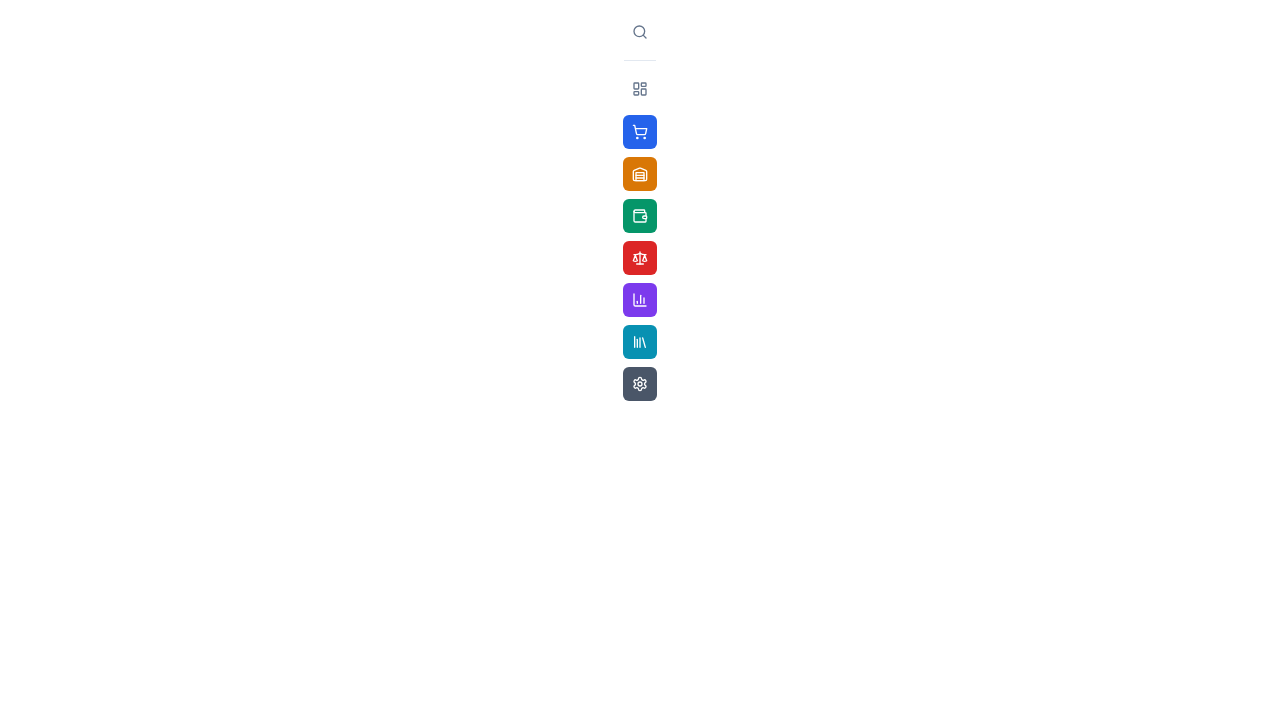
SidebarRail › Esc closes the flyout and returns focus to the icon
Click the button named "Kho" at coordinates (640, 174), box [623, 157, 657, 191]
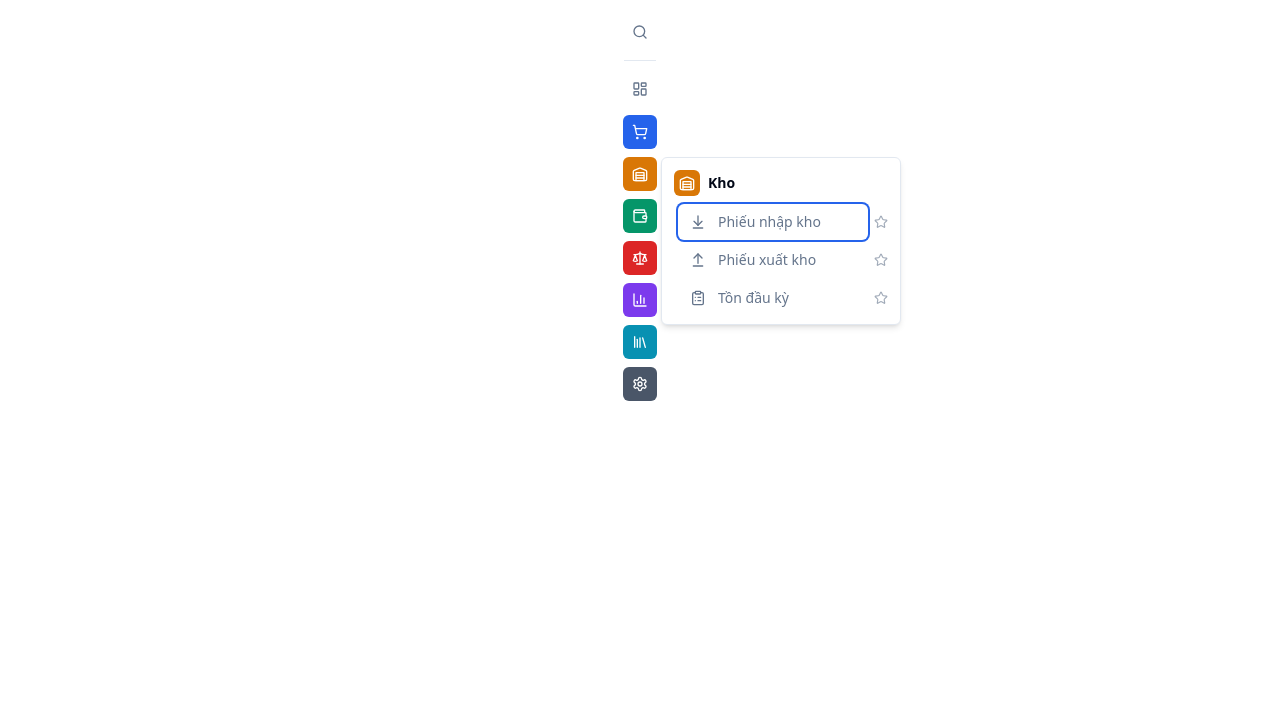
Press Escape
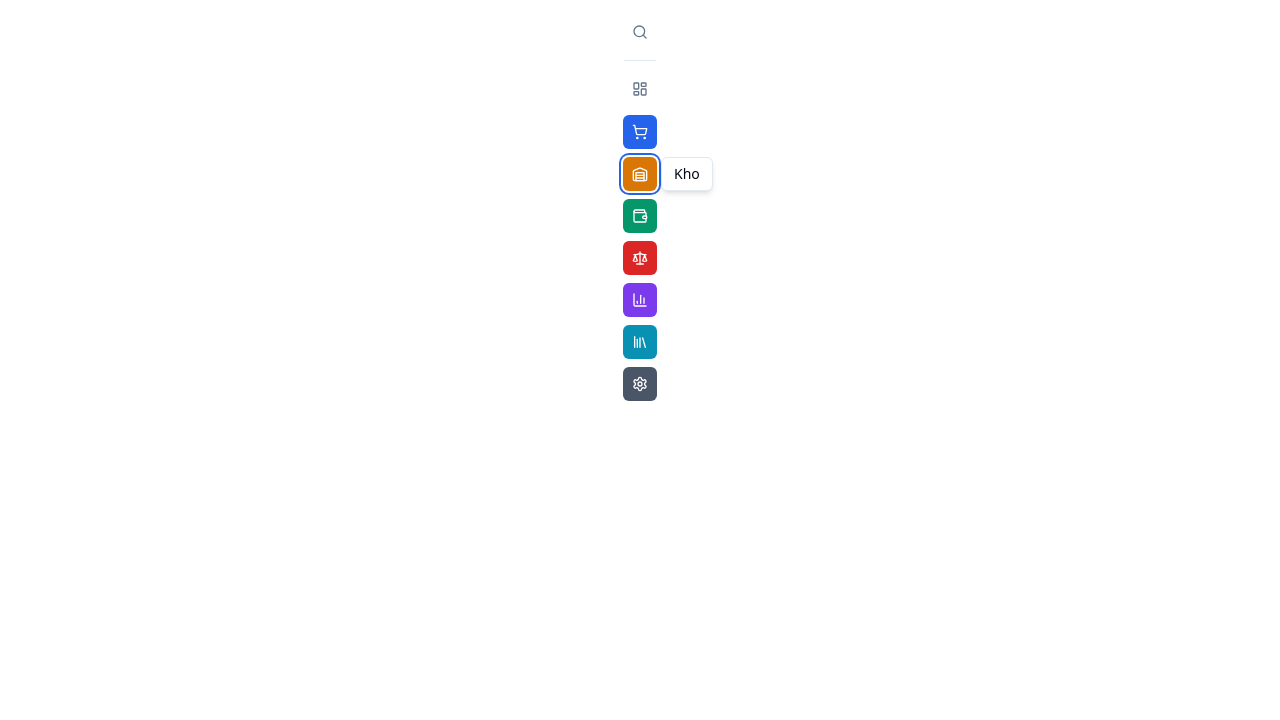
Expected: the dialog is gone
